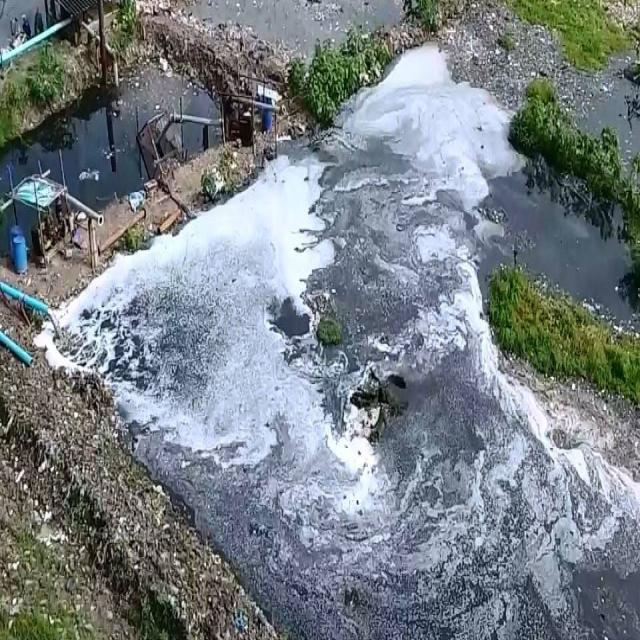-: (284, 489, 640, 640), (422, 403, 609, 640), (398, 546, 640, 639), (87, 380, 245, 452), (487, 8, 559, 146), (432, 534, 478, 640)
